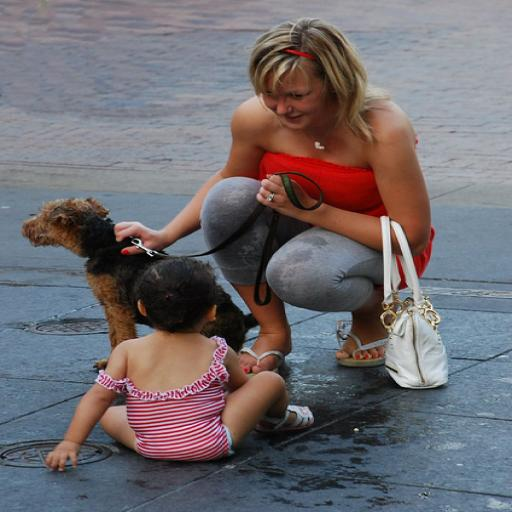animal: (18, 195, 268, 380)
person: (114, 16, 435, 380), (45, 254, 314, 473)
